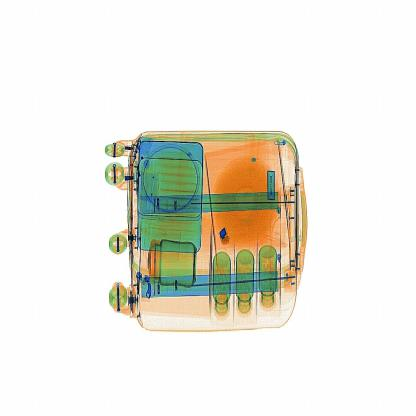wrench: (218, 224, 235, 252)
